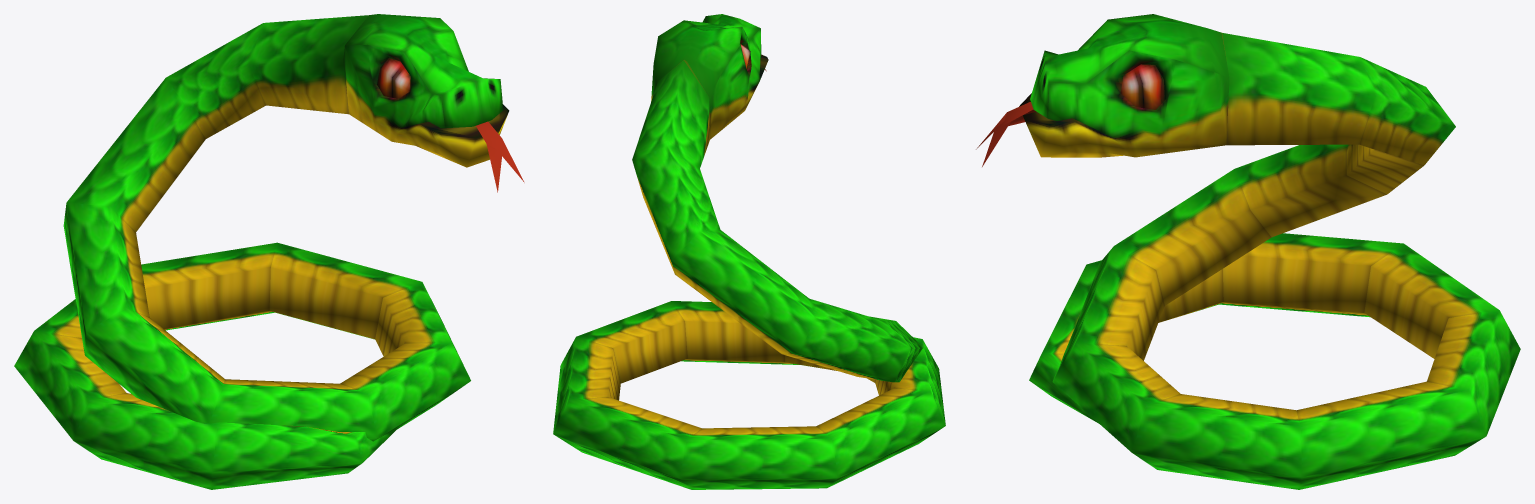
The model's file is lowpoly-snake.fbx.
3 views of the same model, side by side, from view 1: azimuth 30°, elevation 25°; view 2: azimuth 150°, elevation 25°; view 3: azimuth 270°, elevation 25° (orthographic). The views are drawn at different scales.
Parts seen in each view (by area): view 1: Snake_01 - Default_0; view 2: Snake_01 - Default_0; view 3: Snake_01 - Default_0.
Part boxes in pixels (x1,y1,x2,y2): Snake_01 - Default_0: (14, 14, 524, 489); Snake_01 - Default_0: (553, 14, 945, 489); Snake_01 - Default_0: (976, 14, 1520, 489).
Bounding box in the file's own units: 4453 × 4084 × 4723.
